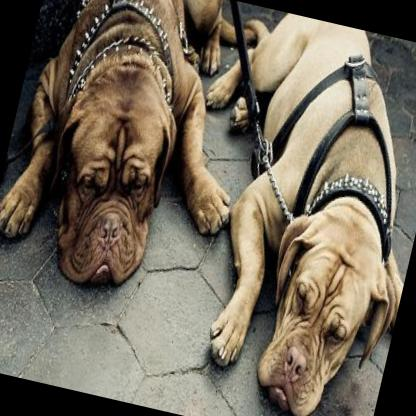bull_mastiff: (135, 0, 416, 416), (0, 0, 276, 313)
